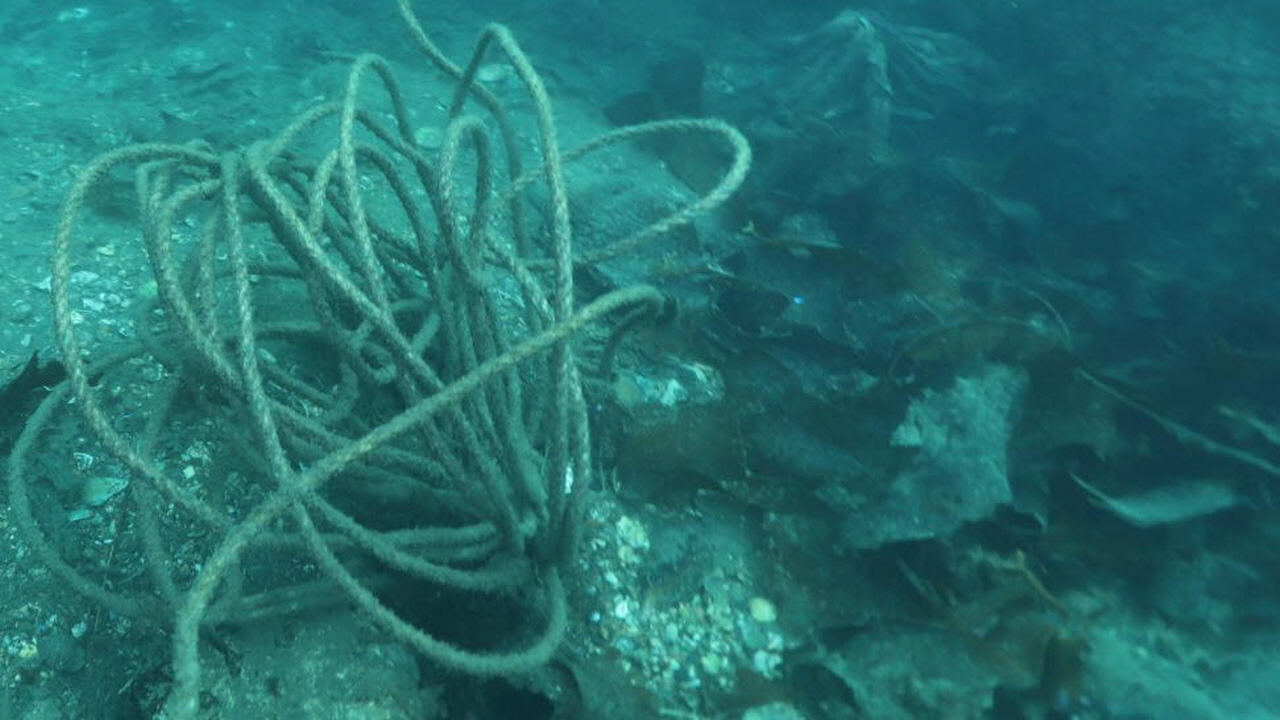bundle of ropes: (0, 0, 754, 720)
